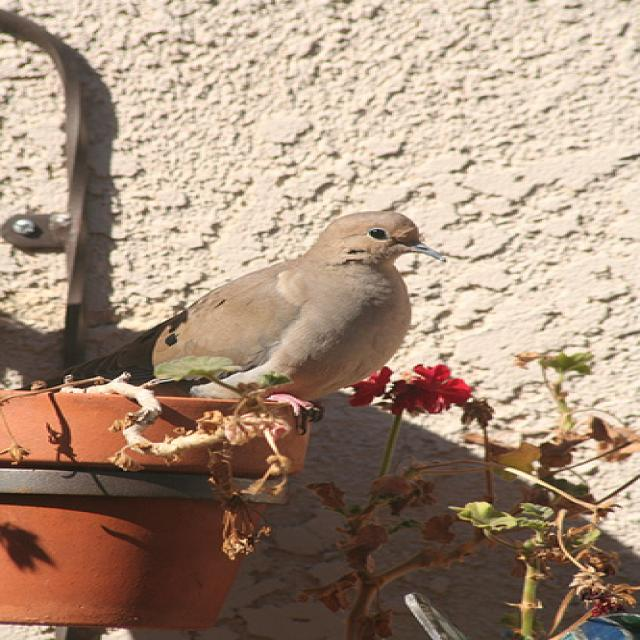bird: (28, 211, 449, 426)
pottedplant: (1, 356, 322, 632)
